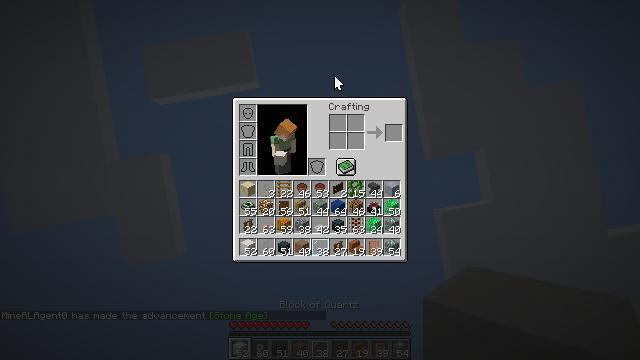cursor: (334, 75, 344, 91)
